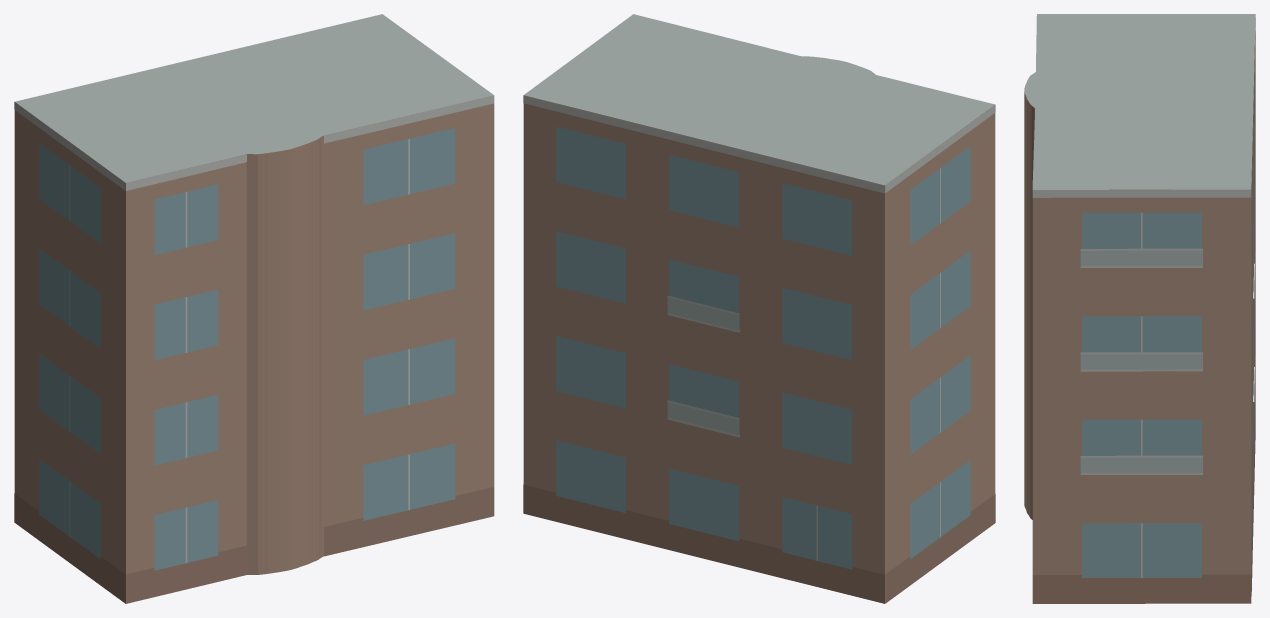
The model's file is survey-upis-32493661.glb.
The picture shows the model from 3 angles, left to right: view 1: azimuth 30°, elevation 25°; view 2: azimuth 150°, elevation 25°; view 3: azimuth 270°, elevation 25°; orthographic projection.
Visible parts, largest first — view 1: survey-upis-32493661.tmp; view 2: survey-upis-32493661.tmp; view 3: survey-upis-32493661.tmp.
Boxes of the visible parts, <box> form: survey-upis-32493661.tmp: <box>14,14,494,603</box>; survey-upis-32493661.tmp: <box>523,14,995,603</box>; survey-upis-32493661.tmp: <box>1024,14,1255,603</box>.
Bounding box in the file's own units: 11.61 × 12.7 × 6.44.
